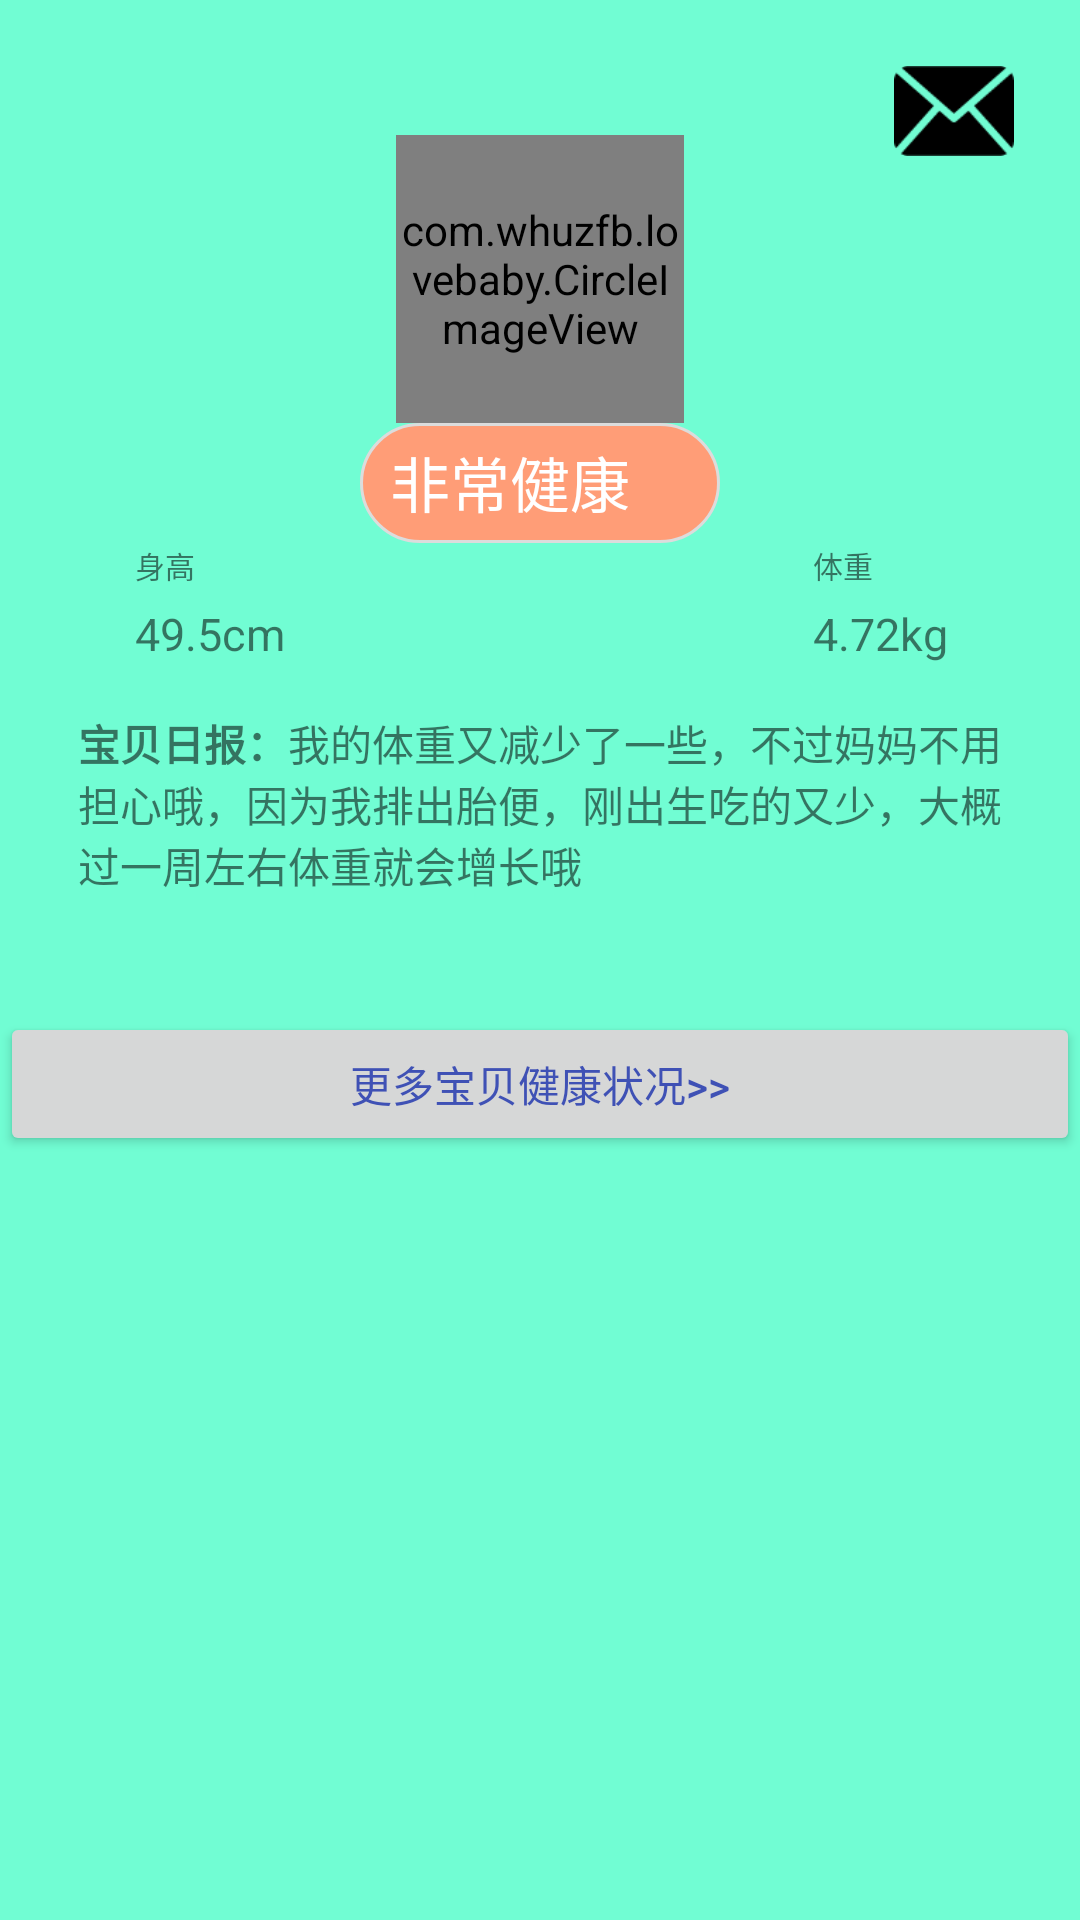

Icons on this 1080×1920 Android screen, each with the point to tap as [x,y]:
email: [954,111]
